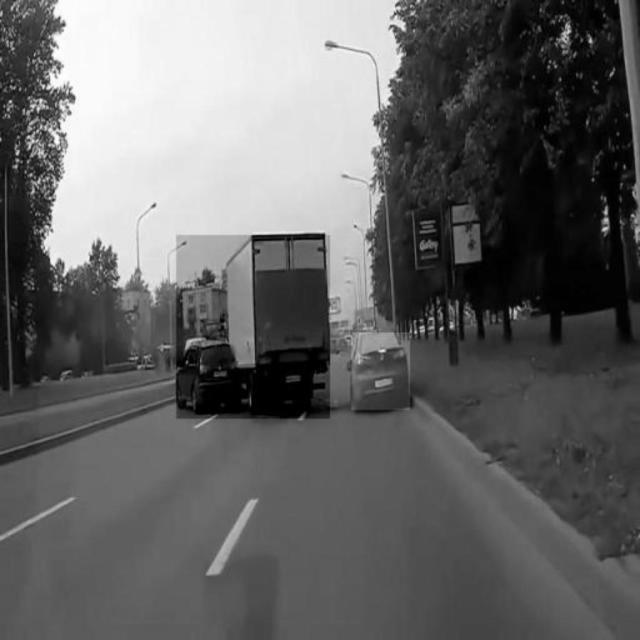accident: (176, 235, 330, 419)
vehicle: (351, 333, 409, 410)
